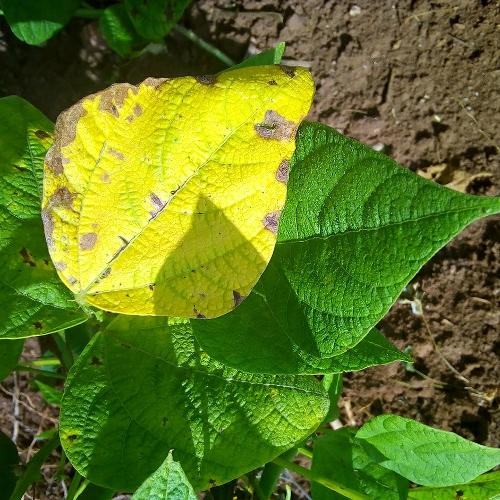hawar: (32, 115, 82, 250), (80, 70, 150, 138), (252, 100, 306, 162), (130, 175, 187, 232)
mozaik: (64, 105, 276, 290)
sehat: (306, 159, 401, 300)
